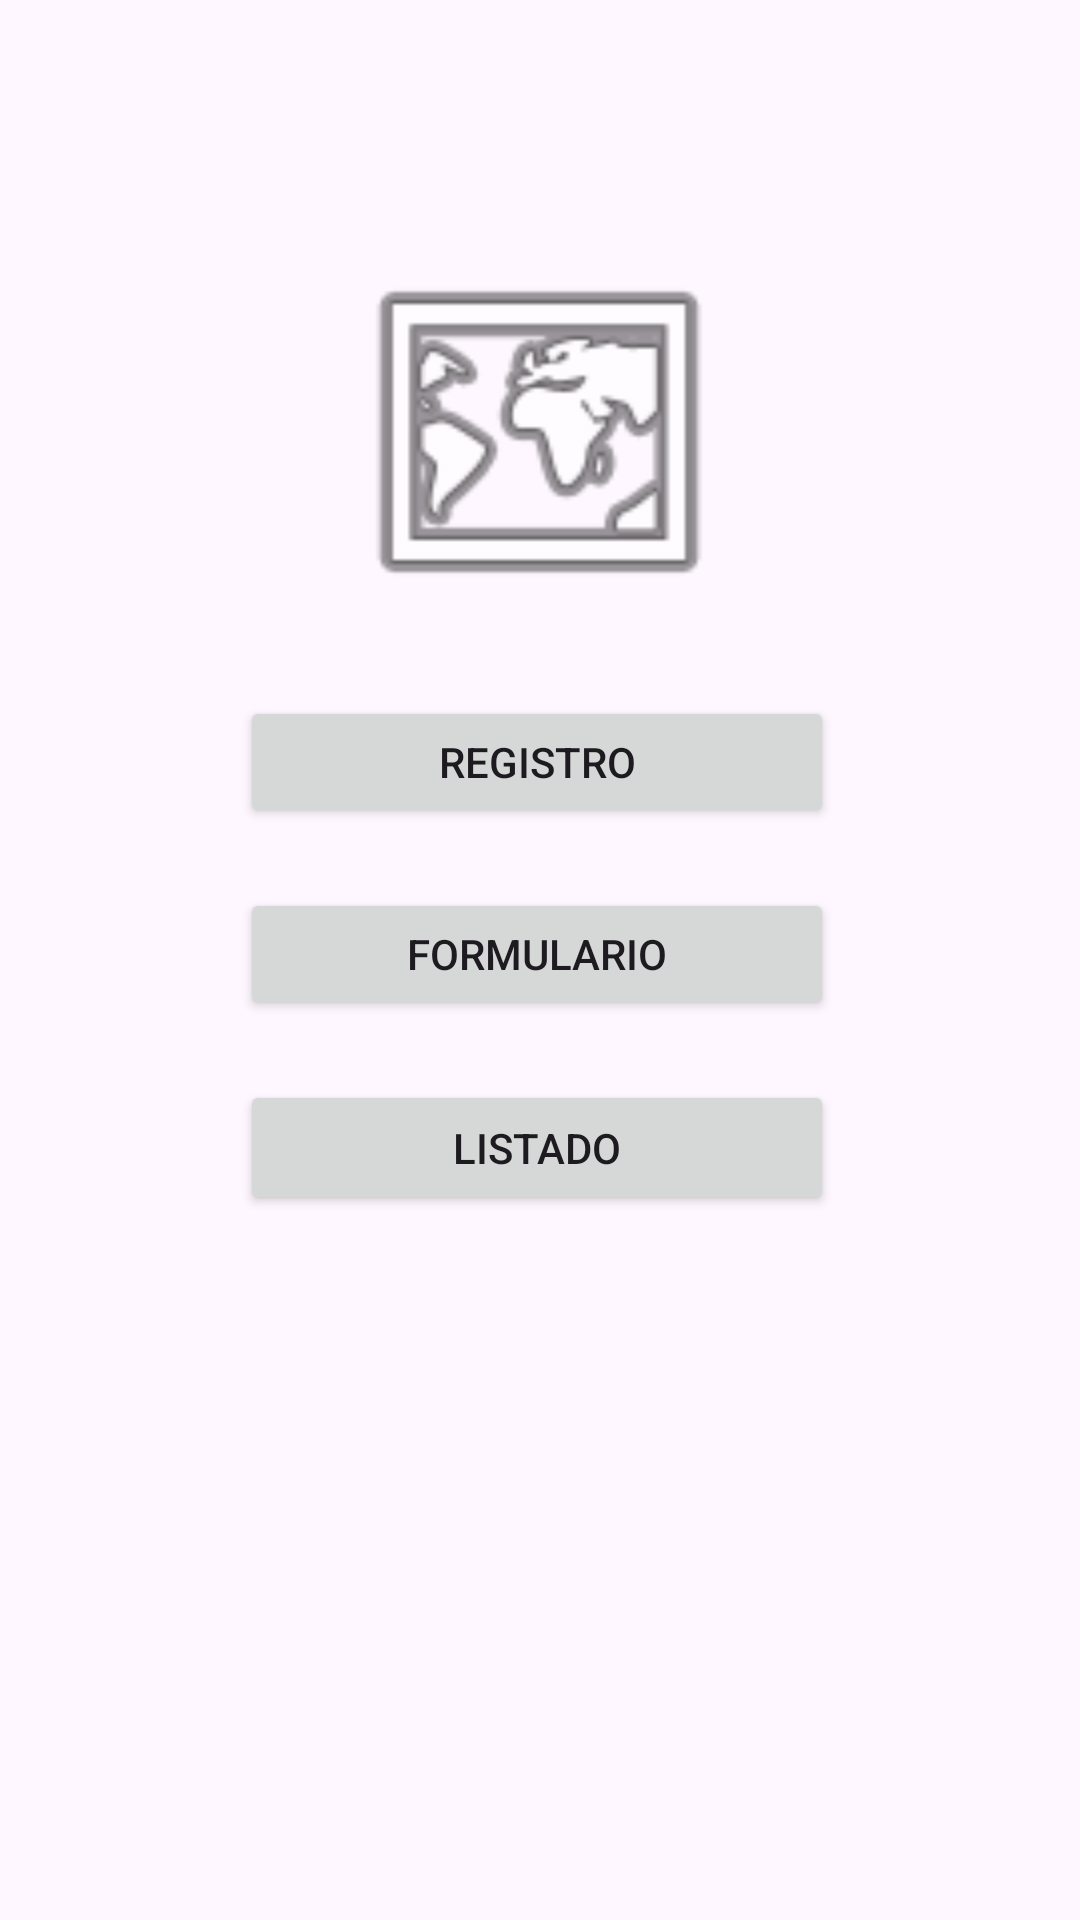

Screen size 1080 x 1920. Icon name, then its center in pixels as (x,y):
mapmode: (539,432)
